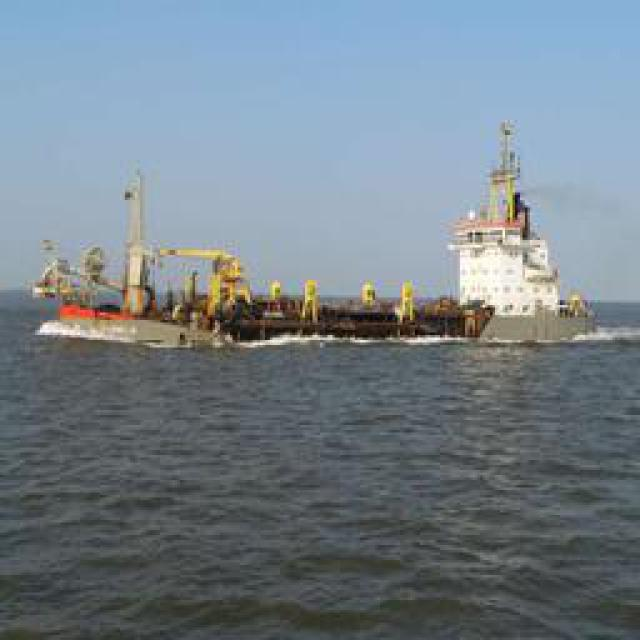Ship: (27, 165, 620, 352)
